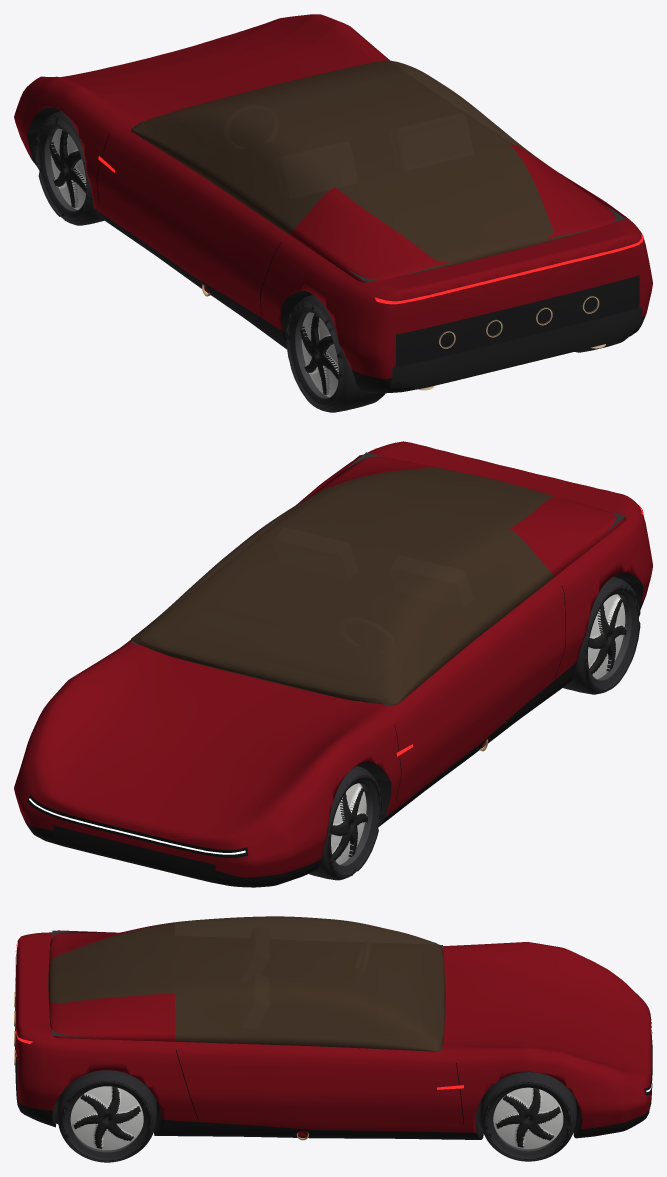
Rendered from roadster.glb.
3 views of the same model, one above another, from view 1: azimuth 30°, elevation 25°; view 2: azimuth 150°, elevation 25°; view 3: azimuth 270°, elevation 25° (orthographic). The views are drawn at different scales.
Visible parts, largest first — view 1: body, glass, wheel_RL, wheel_FL; view 2: body, glass, wheel_RL, wheel_FL; view 3: body, glass, wheel_RR, wheel_FR.
Boxes of the visible parts, x1,y1,x2,y2 form: body: (14, 14, 652, 393); glass: (131, 60, 626, 282); wheel_RL: (286, 294, 385, 412); wheel_FL: (35, 111, 104, 225); body: (14, 441, 652, 887); glass: (131, 454, 626, 705); wheel_RL: (563, 576, 640, 694); wheel_FL: (309, 766, 381, 880); body: (15, 930, 652, 1139); glass: (48, 916, 445, 1051); wheel_RR: (57, 1070, 156, 1162); wheel_FR: (480, 1072, 576, 1161).
Size of the model in its own units: 1.96 by 1.16 by 4.29.
